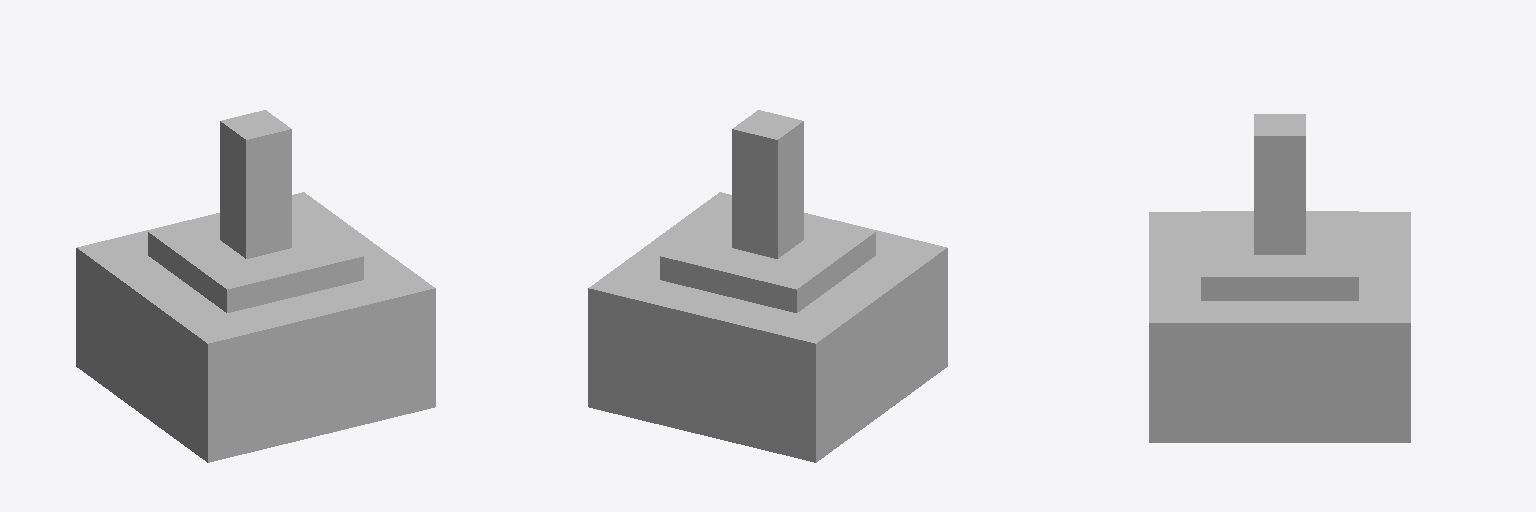
Rendered from sprinkler.obj.
3 views of the same model, side by side, from view 1: azimuth 30°, elevation 25°; view 2: azimuth 150°, elevation 25°; view 3: azimuth 270°, elevation 25° (orthographic).
Parts seen in each view (by area): view 1: object 1; view 2: object 1; view 3: object 1.
Part boxes in pixels (bbox=[...]): object 1: bbox=[76, 110, 435, 462]; object 1: bbox=[588, 110, 947, 462]; object 1: bbox=[1149, 114, 1410, 442].
Size of the model in its own units: 1 by 1.1 by 1.